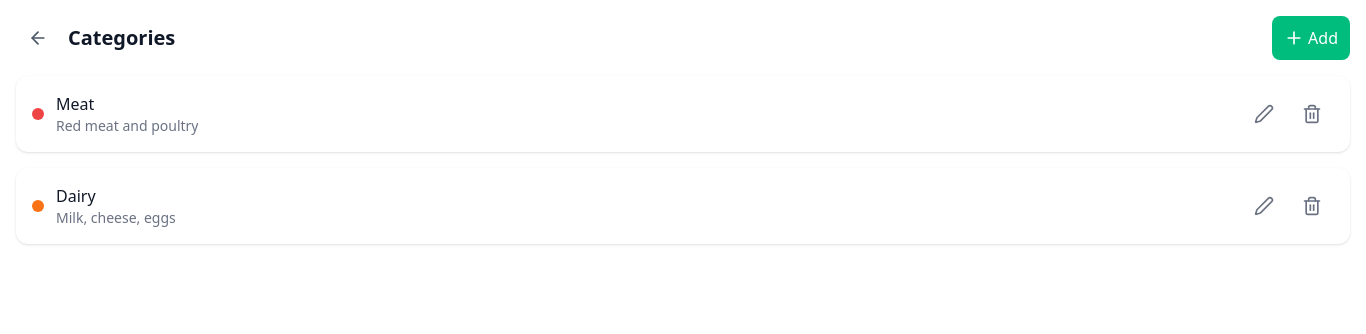
Test: CategoriesPage › shows an error when the in-use check fails and does not reject unhandled
Click the button named "delete meat" at (1312, 114), box [1290, 92, 1334, 136]
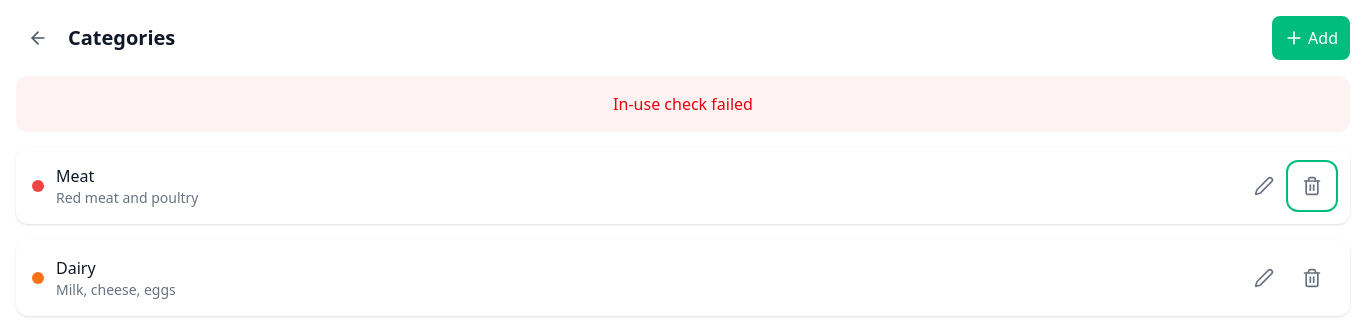
Now the text "In-use check failed" is shown, box [613, 93, 753, 115]
